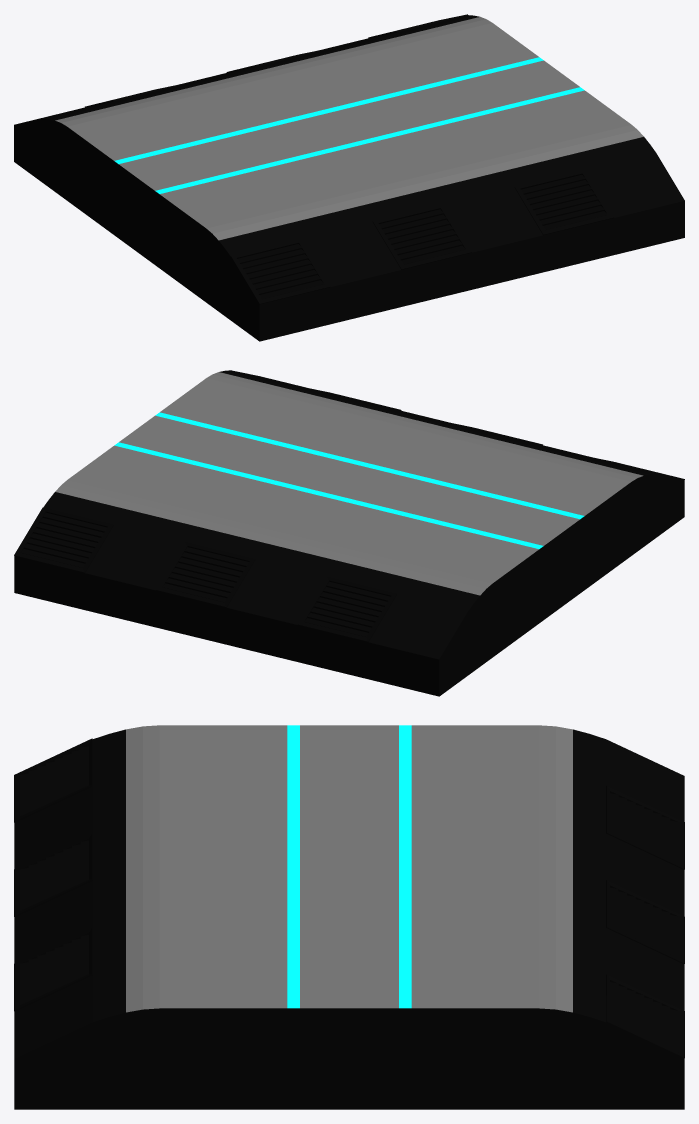
The model's file is pathStraightCurvedThinner.fbx.
3 renders of one model, top to bottom at view 1: azimuth 30°, elevation 25°; view 2: azimuth 150°, elevation 25°; view 3: azimuth 270°, elevation 25°, orthographic. The views are drawn at different scales.
Parts seen in each view (by area): view 1: Plane; view 2: Plane; view 3: Plane.
Boxes of the visible parts, left/top/right/bottom form: Plane: left=14, top=14, right=684, bottom=341; Plane: left=14, top=370, right=684, bottom=696; Plane: left=14, top=725, right=684, bottom=1109.
Size of the model in its own units: 600 by 100 by 601.
